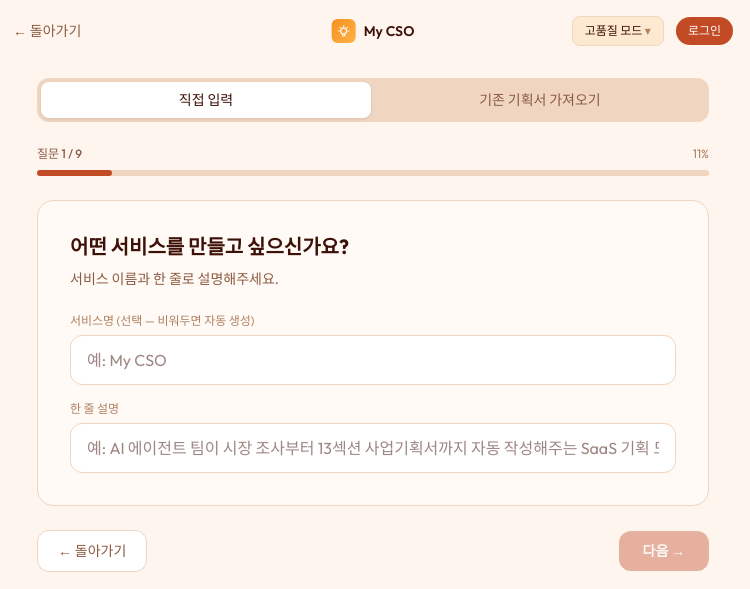
Test: Guided Page Integration › can fill step 1 and advance to step 2 (category)
Type "테스트 서비스 설명" into the field with placeholder "예: AI 에이전트 팀이 시장 조사부터 13섹션 사업기획서까지 자동 작성해주는 SaaS 기획 도우미" at (373, 448), box x1=70 y1=423 x2=676 y2=473
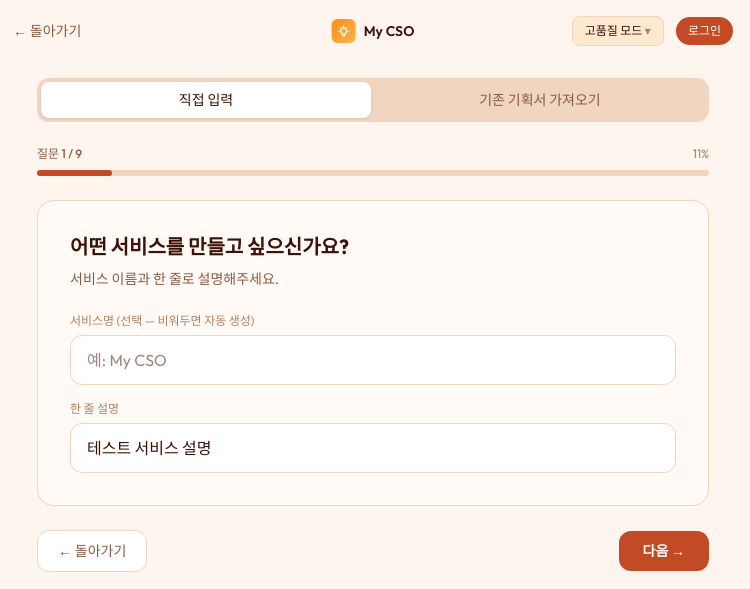
Click the button "다음 →" at (664, 551), box x1=618 y1=531 x2=709 y2=571
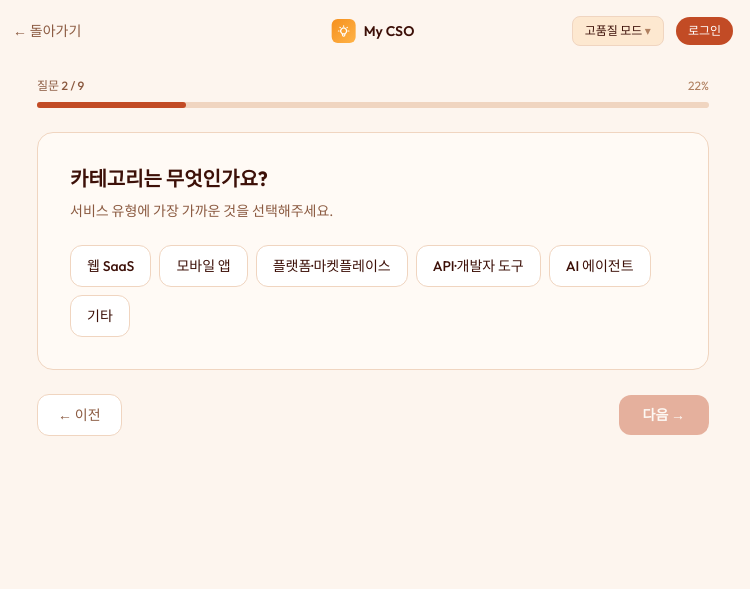
Check: the heading "카테고리는 무엇인가요?" is shown, box x1=70 y1=166 x2=268 y2=191
Check: the button "웹 SaaS" is shown, box x1=70 y1=245 x2=151 y2=287
Check: the button "모바일 앱" is shown, box x1=159 y1=245 x2=248 y2=287
